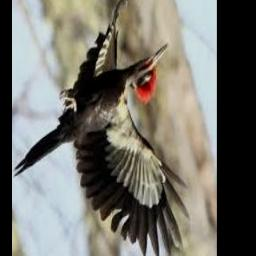Woodpecker: (14, 0, 190, 256)
